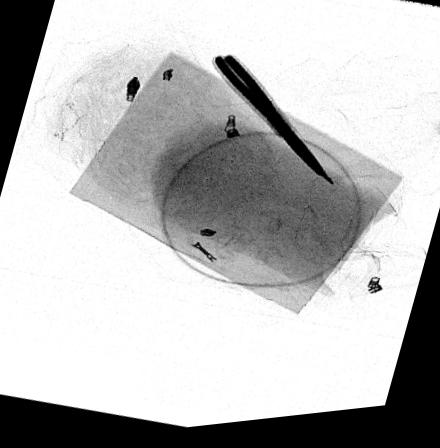Pliers: (212, 58, 335, 194)
